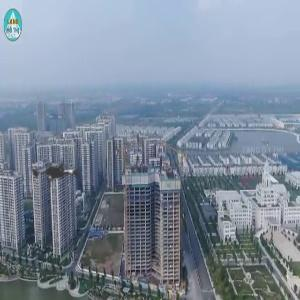drone: (12, 131, 105, 224)
